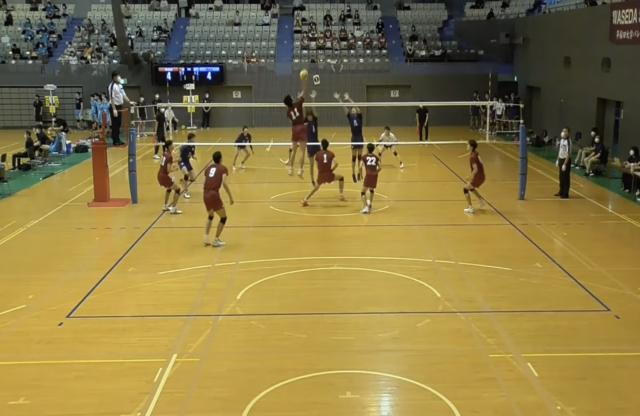spike: (281, 66, 313, 180)
